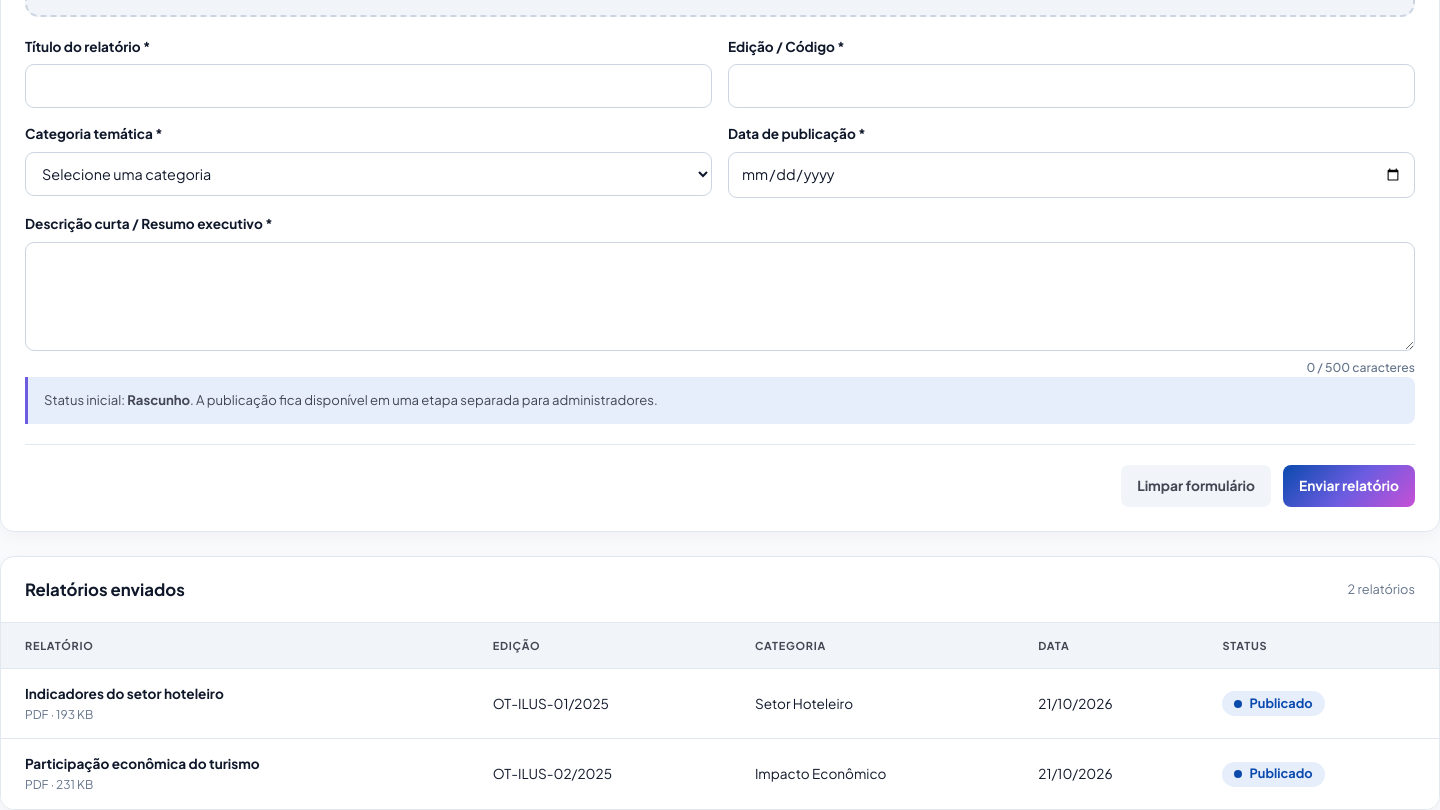
AdminRelatoriosPage › não envia o formulário com campos obrigatórios vazios
(page scrolled)
Expected: the table is shown, left=1, top=623, right=1439, bottom=809
Click the button "Enviar relatório": (1349, 486) left=1283, top=465, right=1415, bottom=507
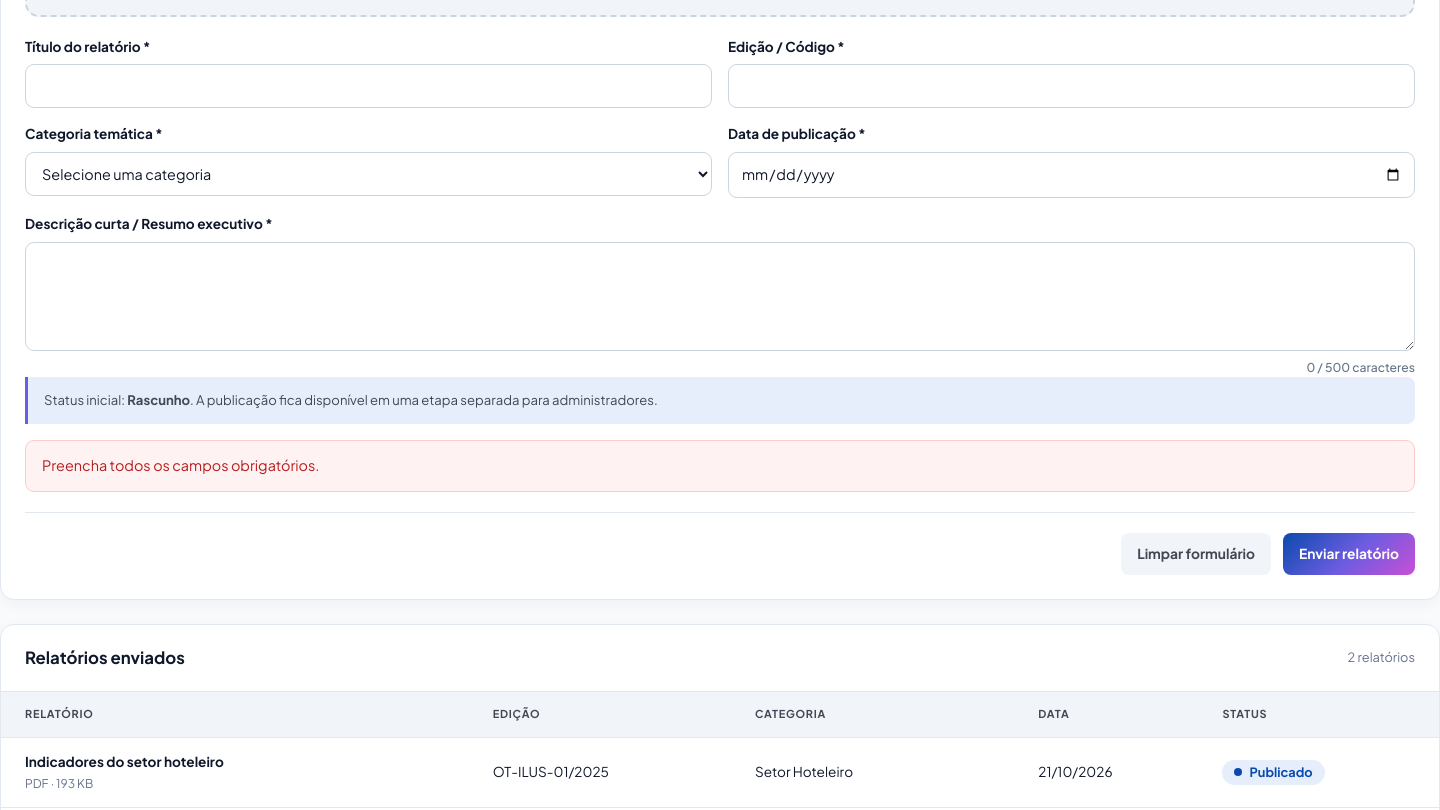
Result: the message reads "Preencha todos os campos obrigatórios." at left=42, top=456, right=320, bottom=474
